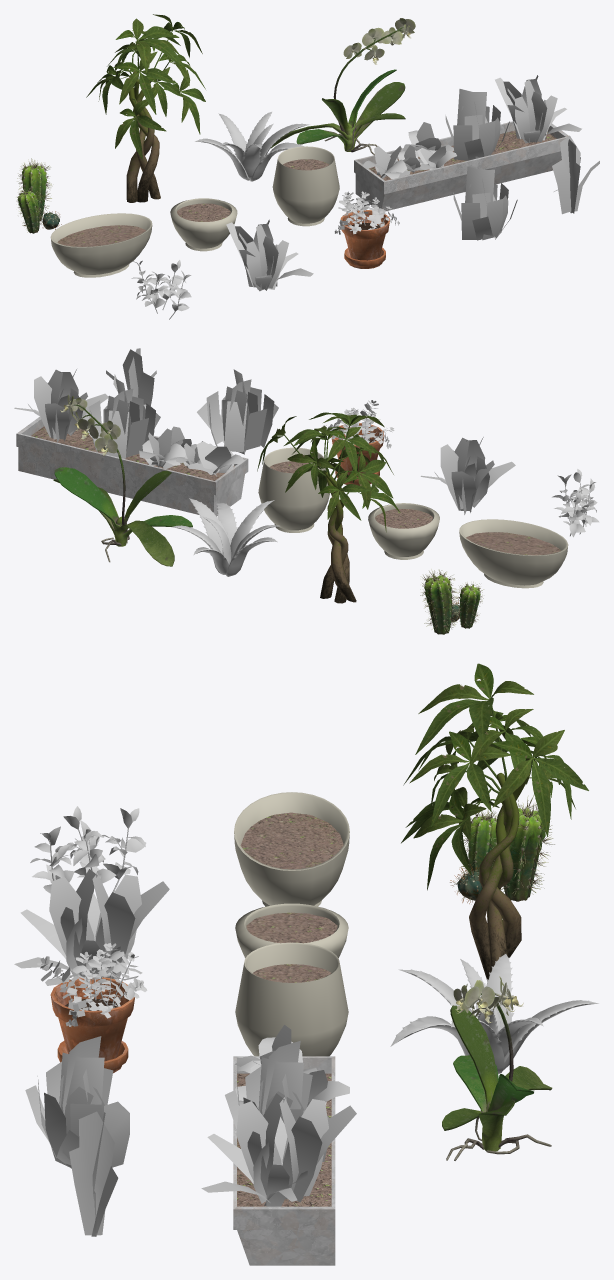
File: Sketchfab_2023_04_19_23_25_22.fbx
3 renders of one model, top to bottom at view 1: azimuth 30°, elevation 25°; view 2: azimuth 150°, elevation 25°; view 3: azimuth 270°, elevation 25°, orthographic. The views are drawn at different scales.
Parts seen in each view (by area): view 1: Money_Tree, Flowerbox_A_Plants, FlowerBox_A, Orchid_A, Vase_B, Vase_A, Thyme, Rosemary, Aloe_Vera_A, Cactus_A, Vase_C, Pot_Plant_A (+6 smaller); view 2: Flowerbox_A_Plants, Money_Tree, FlowerBox_A, Orchid_A, Vase_A, Thyme, Vase_B, Aloe_Vera_A, Rosemary, Cactus_A, Vase_C, Basil (+6 smaller); view 3: Money_Tree, Flowerbox_A_Plants, Vase_B, Orchid_A, Rosemary, FlowerBox_A, Thyme, Vase_A, Aloe_Vera_A, Cactus_A, Vase_A_Dirt, Pot_Plant_A (+7 smaller).
Part boxes in pixels (bbox=[...]): Money_Tree: bbox=[86, 14, 205, 202]; Flowerbox_A_Plants: bbox=[362, 75, 581, 178]; FlowerBox_A: bbox=[354, 121, 568, 211]; Orchid_A: bbox=[271, 18, 415, 155]; Vase_B: bbox=[272, 146, 339, 226]; Vase_A: bbox=[50, 213, 152, 277]; Thyme: bbox=[453, 166, 517, 240]; Rosemary: bbox=[226, 219, 313, 291]; Aloe_Vera_A: bbox=[195, 112, 309, 181]; Cactus_A: bbox=[16, 158, 61, 233]; Vase_C: bbox=[170, 198, 237, 251]; Pot_Plant_A: bbox=[340, 210, 389, 268]; Flowerbox_A_Plants: bbox=[14, 369, 244, 476]; Money_Tree: bbox=[257, 412, 399, 603]; FlowerBox_A: bbox=[16, 416, 248, 516]; Orchid_A: bbox=[53, 395, 192, 566]; Vase_A: bbox=[459, 519, 568, 588]; Thyme: bbox=[197, 369, 278, 454]; Vase_B: bbox=[258, 447, 330, 532]; Aloe_Vera_A: bbox=[171, 498, 279, 576]; Rosemary: bbox=[420, 437, 515, 514]; Cactus_A: bbox=[420, 569, 484, 634]; Vase_C: bbox=[368, 503, 439, 559]; Basil: bbox=[552, 469, 599, 537]; Money_Tree: bbox=[401, 663, 588, 979]; Flowerbox_A_Plants: bbox=[201, 1025, 356, 1206]; Vase_B: bbox=[235, 942, 348, 1056]; Orchid_A: bbox=[442, 976, 552, 1160]; Rosemary: bbox=[14, 869, 169, 979]; FlowerBox_A: bbox=[233, 1056, 335, 1265]; Thyme: bbox=[25, 1036, 129, 1168]; Vase_A: bbox=[234, 792, 349, 906]; Aloe_Vera_A: bbox=[390, 954, 598, 1073]; Cactus_A: bbox=[450, 795, 554, 903]; Vase_A_Dirt: bbox=[240, 812, 343, 869]; Pot_Plant_A: bbox=[50, 977, 134, 1073].
Size of the model in its own units: 251 by 83.93 by 147.
